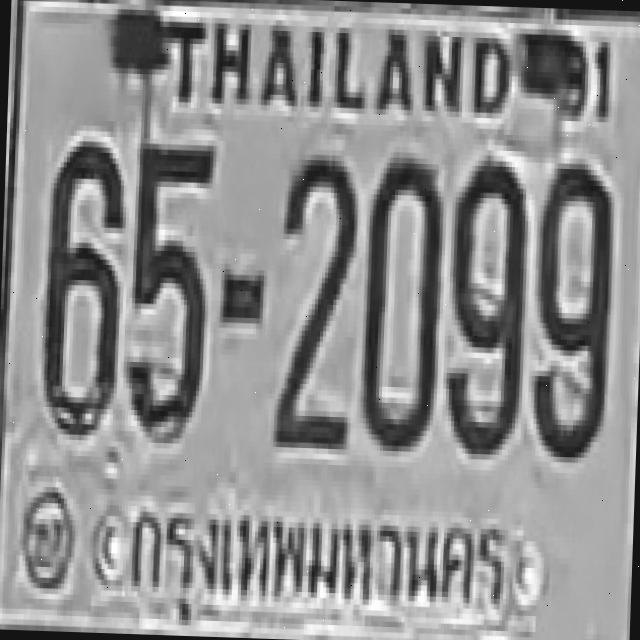0: (358, 151, 442, 447)
2: (274, 146, 356, 447)
5: (124, 134, 213, 436)
6: (40, 134, 124, 436)
9: (529, 156, 612, 458), (442, 153, 525, 450)
Bangkok: (118, 479, 514, 626)
